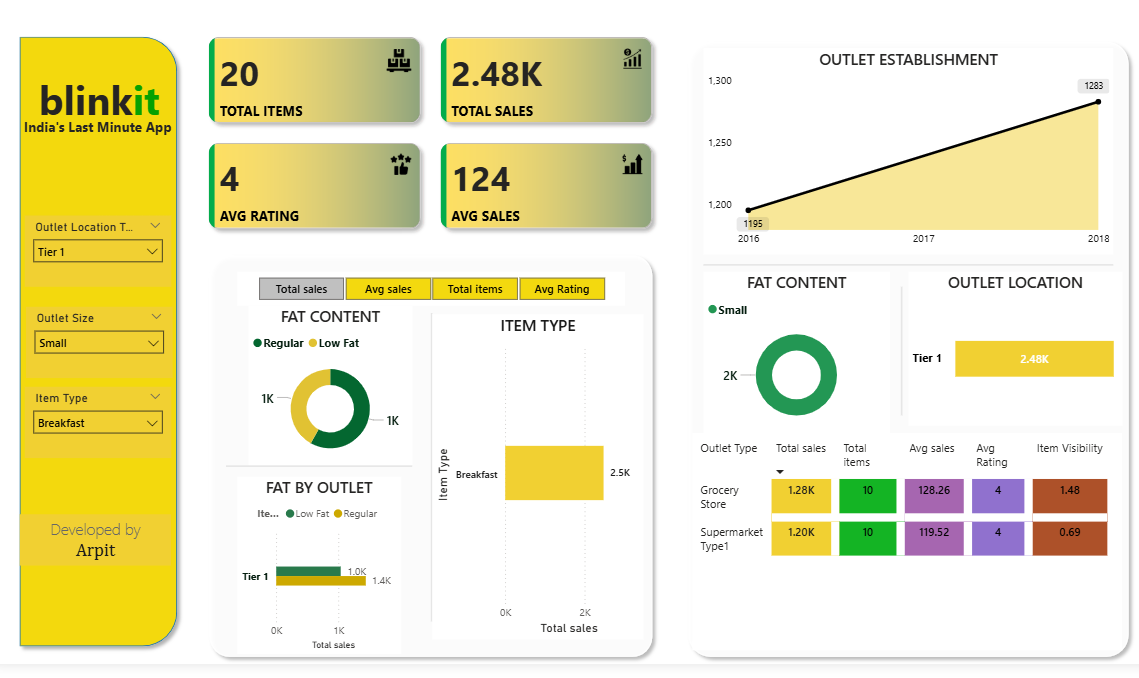

This screenshot's page, from the dashboard's own definition file:
{"tool":"powerbi","page":{"name":"Page 1","canvas":[1400,800],"ordinal":0},"visuals":[{"type":"shape","box":[25.5,37.5,207,750],"z":0},{"type":"textbox","box":[42,84,175.6,78],"z":1000},{"type":"textbox","box":[30,138.1,196.6,46.5],"z":2000},{"type":"cardVisual","fields":{"Data":["BlinkIT Grocery Data.Total items","BlinkIT Grocery Data.Total sales","BlinkIT Grocery Data.Avg Rating","BlinkIT Grocery Data.Avg sales"]},"box":[244.6,30,567.3,264.2],"z":3000},{"type":"shape","box":[253.6,300.2,549.3,499.8],"z":4000},{"type":"donutChart","title":"FAT CONTENT","fields":{"Y":["BlinkIT Grocery Data.Total sales"],"Category":["BlinkIT Grocery Data.Item Fat Content"]},"box":[309.2,369.2,196.6,193.6],"z":5000},{"type":"slicer","fields":{"Values":["Metrics.Metrics"]},"box":[295.7,328.7,465.3,40.5],"z":6000},{"type":"clusteredBarChart","title":"FAT BY OUTLET","fields":{"Y":["BlinkIT Grocery Data.Total sales"],"Category":["BlinkIT Grocery Data.Outlet Location Type"],"Series":["BlinkIT Grocery Data.Item Fat Content"]},"box":[295.7,574.8,196.6,213.1],"z":7000},{"type":"shape","box":[282.2,538.8,223.6,46.5],"z":8000},{"type":"shape","box":[514.8,378.2,28.5,370.7],"z":9000},{"type":"barChart","title":"ITEM TYPE","fields":{"Y":["BlinkIT Grocery Data.Total sales"],"Category":["BlinkIT Grocery Data.Item Type"]},"box":[529.8,379.7,253.6,390.2],"z":10000},{"type":"shape","box":[828.5,43.5,546.3,756.4],"z":11000},{"type":"lineChart","title":"OUTLET ESTABLISHMENT","fields":{"Category":["BlinkIT Grocery Data.Outlet Establishment Year"],"Y":["BlinkIT Grocery Data.Total sales"]},"box":[855.5,60,492.3,247.6],"z":12000},{"type":"shape","box":[855.5,294.2,492.3,52.5],"z":13000},{"type":"donutChart","title":"FAT CONTENT","fields":{"Y":["BlinkIT Grocery Data.Total sales"],"Category":["BlinkIT Grocery Data.Outlet Size"]},"box":[855.5,328.7,223.6,193.6],"z":14000},{"type":"funnel","title":"OUTLET LOCATION","fields":{"Y":["Sum(BlinkIT Grocery Data.Sales)"],"Category":["BlinkIT Grocery Data.Outlet Location Type"]},"box":[1101.6,328.7,256.6,184.6],"z":15000},{"type":"shape","box":[956,346.7,274.7,154.6],"z":16000},{"type":"pivotTable","fields":{"Rows":["BlinkIT Grocery Data.Outlet Type"],"Values":["BlinkIT Grocery Data.Total sales","BlinkIT Grocery Data.Total items","BlinkIT Grocery Data.Avg sales","BlinkIT Grocery Data.Avg Rating","Sum(BlinkIT Grocery Data.Item Visibility)"]},"box":[842,522.3,516.3,261.2],"z":17000},{"type":"slicer","fields":{"Values":["BlinkIT Grocery Data.Outlet Location Type"]},"box":[40.5,261.2,175.6,85.5],"z":18000},{"type":"slicer","fields":{"Values":["BlinkIT Grocery Data.Outlet Size"]},"box":[42,370.7,175.6,85.5],"z":19000},{"type":"slicer","fields":{"Values":["BlinkIT Grocery Data.Item Type"]},"box":[40.5,466.8,175.6,85.5],"z":20000},{"type":"textbox","box":[34.5,619.9,181.6,61.5],"z":21000}]}

Visuals, with their boxes on the page's 1400x800 design canvas (x1, y1, x2, y2). These are canvas units, not pixel positions in the 1139x678 screenshot, which may show the page scaled, cropped or inside an application window:
shape: x1=26 y1=38 x2=232 y2=788
textbox: x1=42 y1=84 x2=218 y2=162
textbox: x1=30 y1=138 x2=227 y2=185
cardVisual - BlinkIT Grocery Data.Total items x BlinkIT Grocery Data.Total sales: x1=245 y1=30 x2=812 y2=294
shape: x1=254 y1=300 x2=803 y2=800
"FAT CONTENT" donutChart: x1=309 y1=369 x2=506 y2=563
slicer - Metrics.Metrics: x1=296 y1=329 x2=761 y2=369
"FAT BY OUTLET" clusteredBarChart: x1=296 y1=575 x2=492 y2=788
shape: x1=282 y1=539 x2=506 y2=585
shape: x1=515 y1=378 x2=543 y2=749
"ITEM TYPE" barChart: x1=530 y1=380 x2=783 y2=770
shape: x1=828 y1=44 x2=1375 y2=800
"OUTLET ESTABLISHMENT" lineChart: x1=856 y1=60 x2=1348 y2=308
shape: x1=856 y1=294 x2=1348 y2=347
"FAT CONTENT" donutChart: x1=856 y1=329 x2=1079 y2=522
"OUTLET LOCATION" funnel: x1=1102 y1=329 x2=1358 y2=513
shape: x1=956 y1=347 x2=1231 y2=501
pivotTable - BlinkIT Grocery Data.Outlet Type x BlinkIT Grocery Data.Total sales: x1=842 y1=522 x2=1358 y2=784
slicer - BlinkIT Grocery Data.Outlet Location Type: x1=40 y1=261 x2=216 y2=347
slicer - BlinkIT Grocery Data.Outlet Size: x1=42 y1=371 x2=218 y2=456
slicer - BlinkIT Grocery Data.Item Type: x1=40 y1=467 x2=216 y2=552
textbox: x1=34 y1=620 x2=216 y2=681
